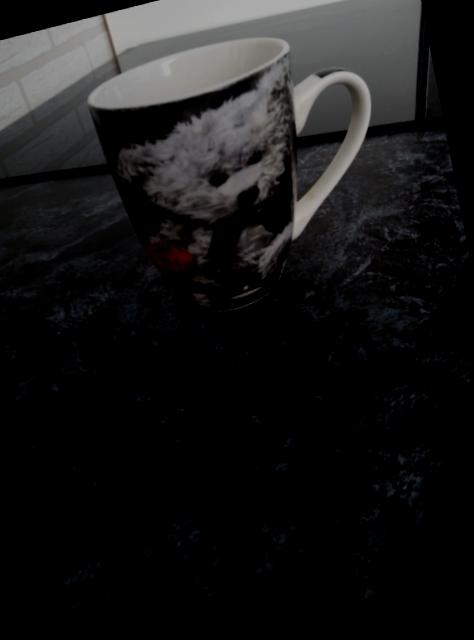Cup: (87, 38, 370, 312)
